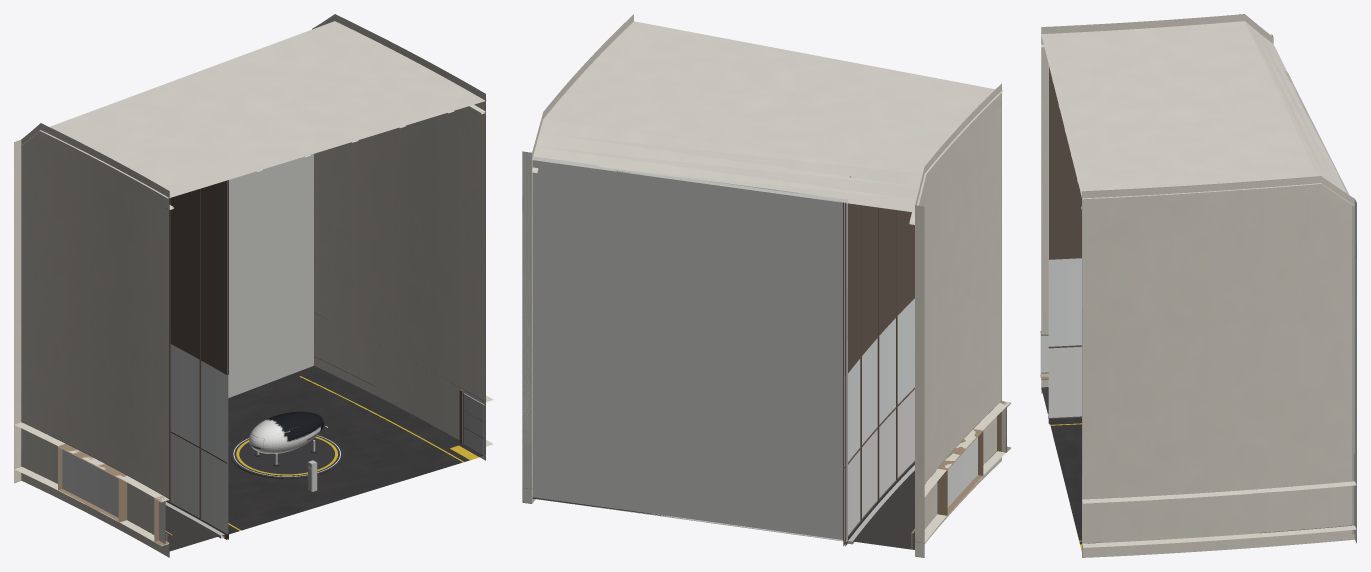
3 views of the same model, side by side, from view 1: azimuth 30°, elevation 25°; view 2: azimuth 150°, elevation 25°; view 3: azimuth 270°, elevation 25° (orthographic). The views are drawn at different scales.
Visible parts, largest first — view 1: c0780; view 2: c0780; view 3: c0780.
Part boxes in pixels (bbox=[...]): c0780: bbox=[14, 14, 493, 557]; c0780: bbox=[522, 14, 1011, 557]; c0780: bbox=[1040, 14, 1356, 557].
Bounding box in the file's own units: 22.76 × 20.7 × 16.2.
Materials: 14 (2 with a texture image).
